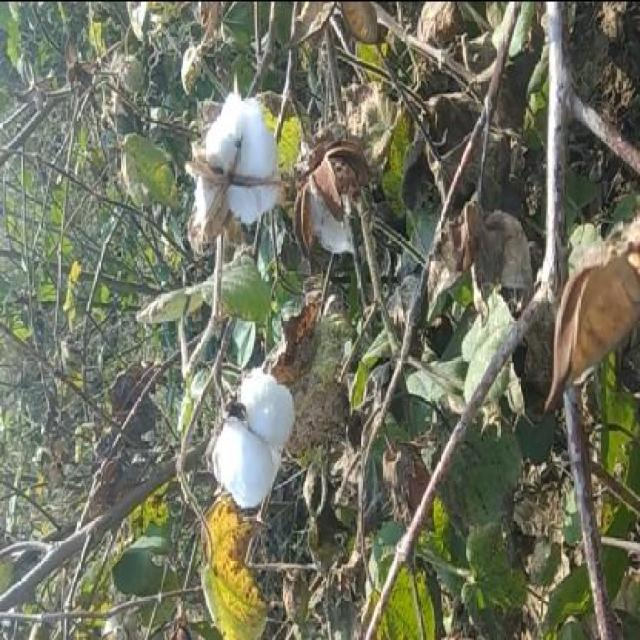cotton_ready: (178, 66, 296, 242), (198, 357, 294, 517)
